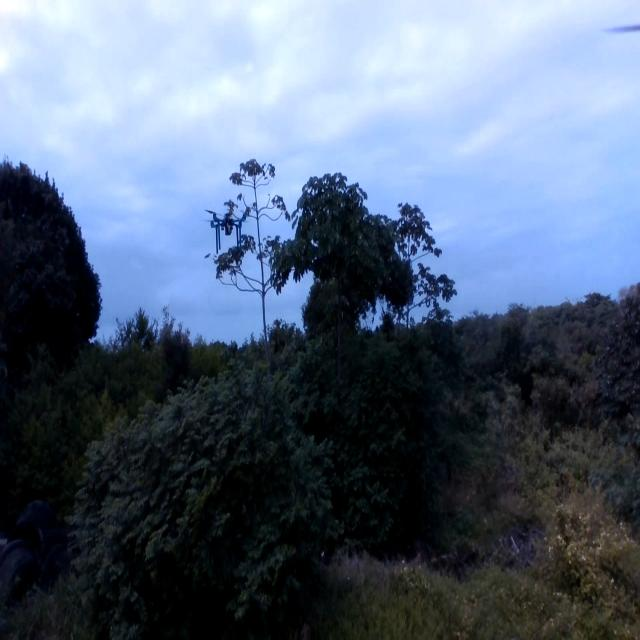-uav-: (204, 203, 252, 256)
